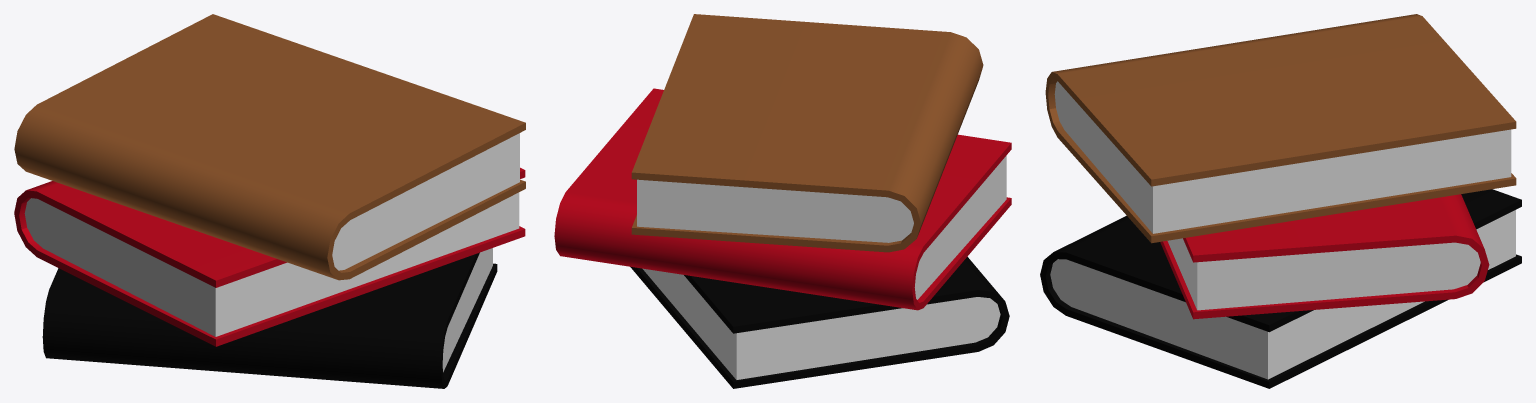
The model's file is Book_Pile_5.fbx.
3 renders of one model, left to right at view 1: azimuth 30°, elevation 25°; view 2: azimuth 150°, elevation 25°; view 3: azimuth 270°, elevation 25°, orthographic. The views are drawn at different scales.
Visible parts, largest first — view 1: Book_Pile_5; view 2: Book_Pile_5; view 3: Book_Pile_5.
Boxes of the visible parts, <box> form: Book_Pile_5: <box>14,14,525,388</box>; Book_Pile_5: <box>554,14,1011,388</box>; Book_Pile_5: <box>1040,14,1521,388</box>.
Bounding box in the file's own units: 0.0153 × 0.00667 × 0.015.
